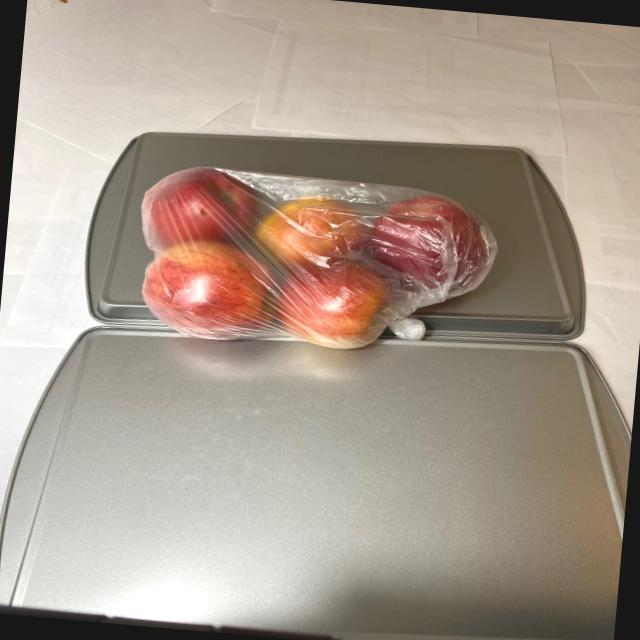apple: (131, 159, 504, 359)
